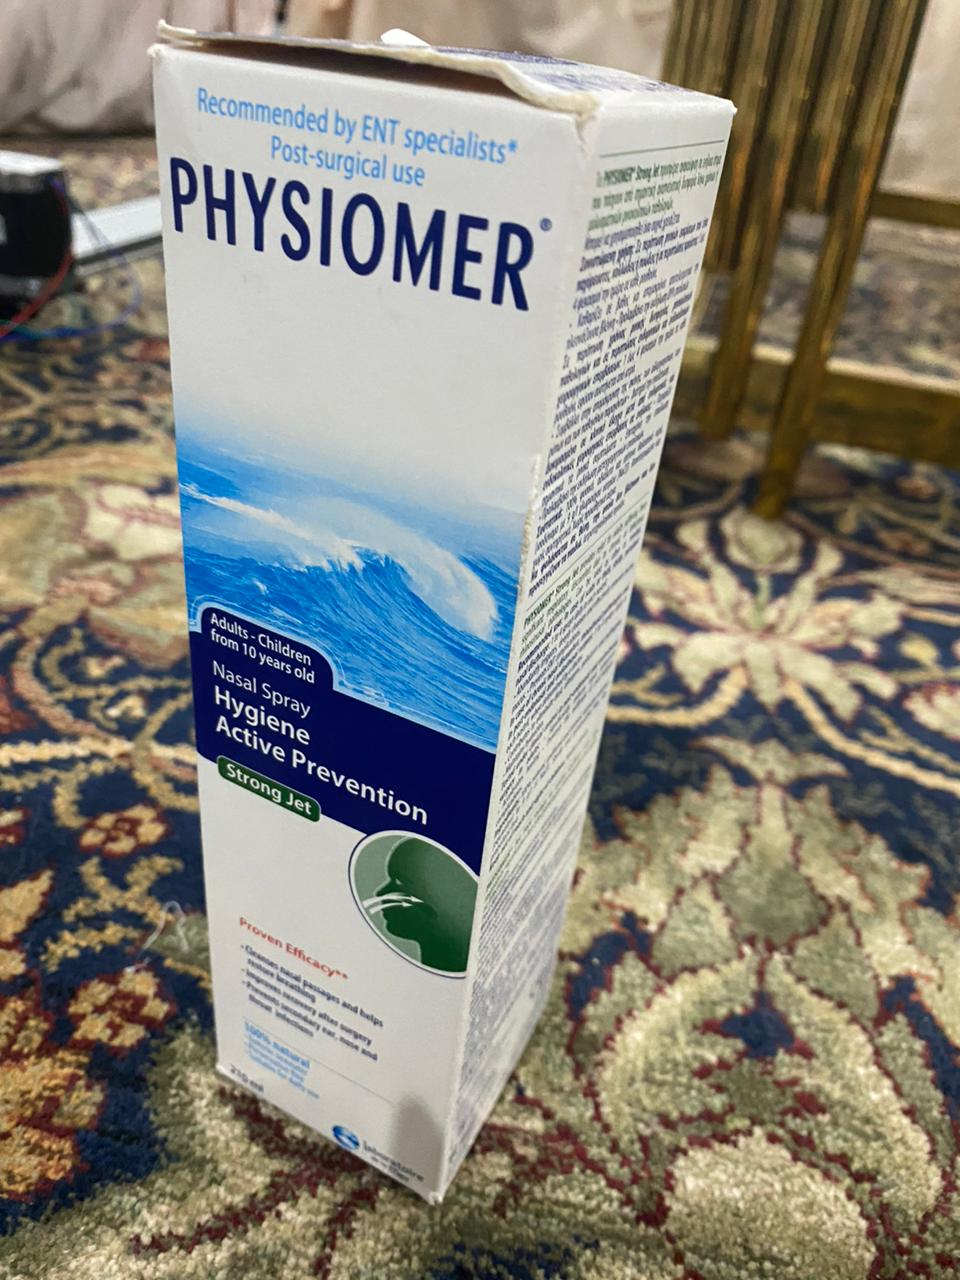Physiomer: (150, 20, 741, 1222)
